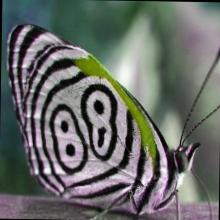butterfly: (8, 25, 198, 214)
